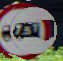Heavy Vehicles: (5, 4, 60, 58)
